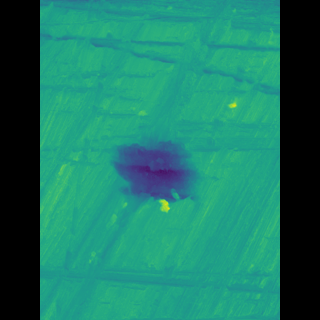Loch: (71, 1, 131, 320), (118, 135, 196, 217), (69, 264, 250, 298)
